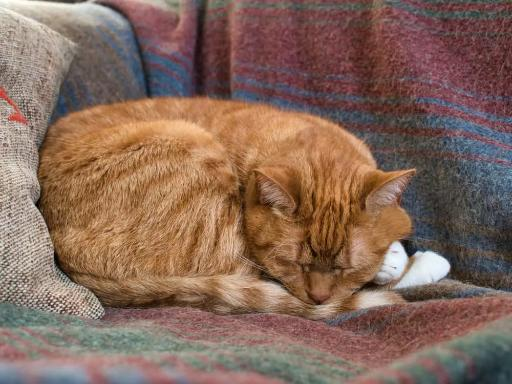cat_sleeping: (38, 97, 416, 319)
